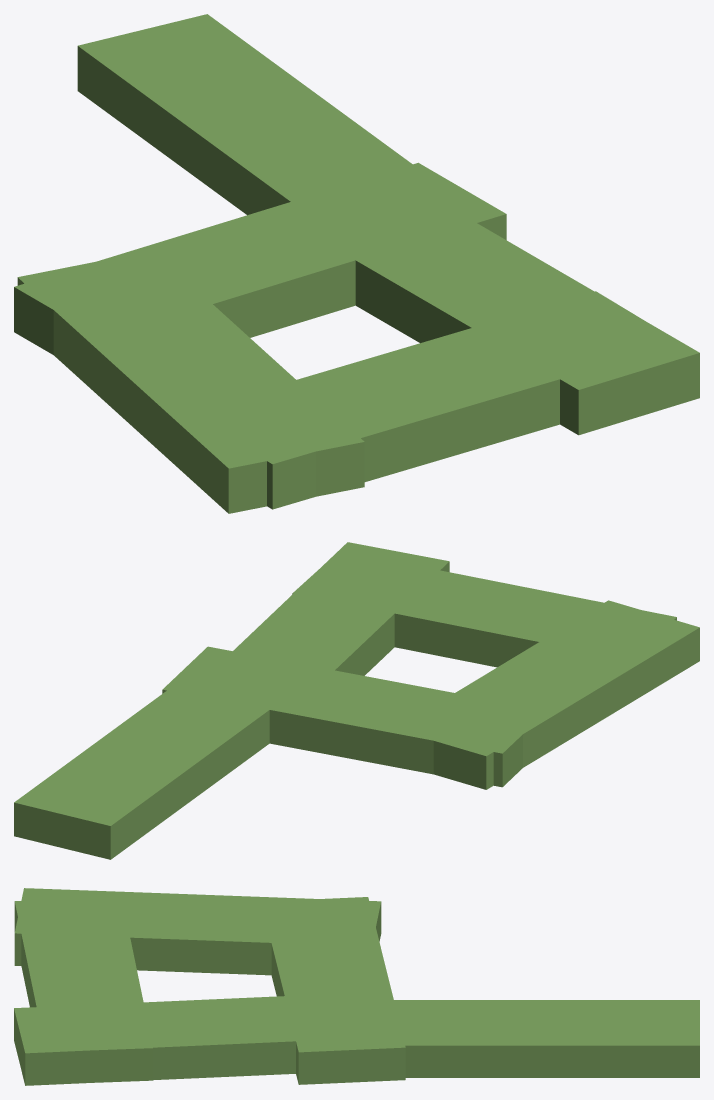
The model's file is Green_Key.glb.
The picture shows the model from 3 angles, top to bottom: view 1: azimuth 30°, elevation 25°; view 2: azimuth 150°, elevation 25°; view 3: azimuth 270°, elevation 25°; orthographic projection. The views are drawn at different scales.
Parts seen in each view (by area): view 1: Cube copy (×2), Cube, Cube copy copy copy, Cube copy copy; view 2: Cube copy (×2), Cube copy copy copy, Cube, Cube copy copy; view 3: Cube copy (×2), Cube copy copy copy, Cube, Cube copy copy.
Part boxes in pixels (x1,y1,x2,y2): Cube copy (×2): (14, 162, 699, 435); Cube: (17, 257, 364, 513); Cube copy copy copy: (77, 14, 456, 228); Cube copy copy: (187, 291, 635, 509); Cube copy (×2): (162, 542, 522, 787); Cube copy copy copy: (14, 666, 296, 859); Cube: (395, 600, 699, 789); Cube copy copy: (292, 550, 676, 667); Cube copy (×2): (14, 897, 405, 1085); Cube copy copy copy: (341, 1000, 699, 1077); Cube: (14, 888, 381, 975); Cube copy copy: (14, 897, 152, 1082).
Size of the model in its own units: 0.5452 by 0.05 by 0.9565.
